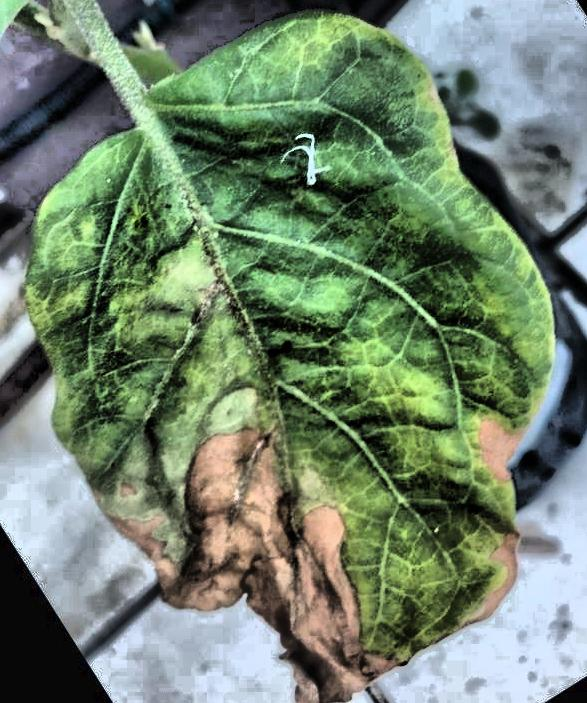Critical Stress: (0, 1, 587, 703)
